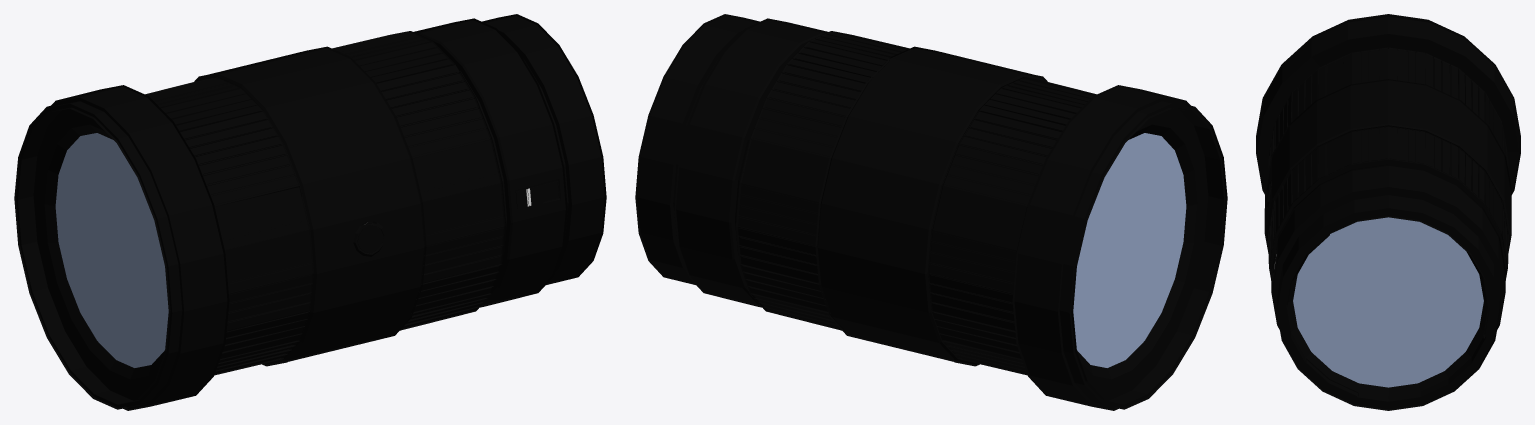
Rendered from Wide-AngleLens.fbx.
The picture shows the model from 3 angles, left to right: view 1: azimuth 30°, elevation 25°; view 2: azimuth 150°, elevation 25°; view 3: azimuth 270°, elevation 25°; orthographic projection. The views are drawn at different scales.
Visible parts, largest first — view 1: Cylinder.001; view 2: Cylinder.001; view 3: Cylinder.001.
Boxes of the visible parts, x1,y1,x2,y2 form: Cylinder.001: (14,14,606,410); Cylinder.001: (635,14,1227,410); Cylinder.001: (1256,14,1520,410).
Bounding box in the file's own units: 82.07 × 51.52 × 51.52.
